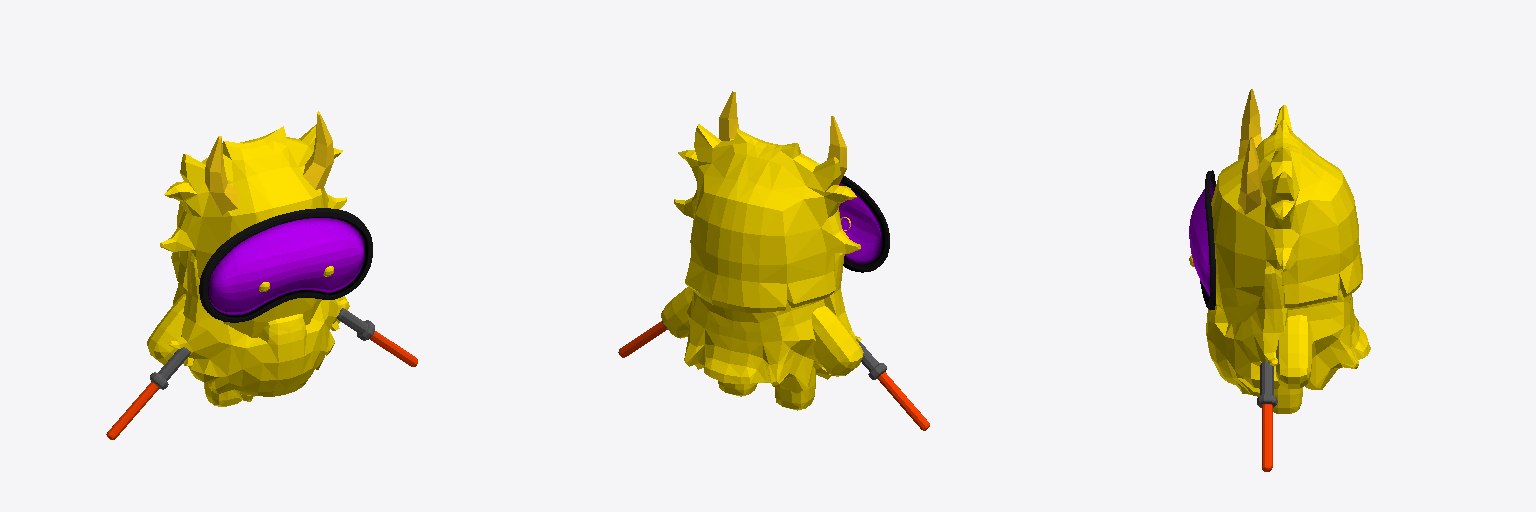
3 renders of one model, left to right at view 1: azimuth 30°, elevation 25°; view 2: azimuth 150°, elevation 25°; view 3: azimuth 270°, elevation 25°, orthographic.
Visible parts, largest first — view 1: rm_dff.001; view 2: rm_dff.001; view 3: rm_dff.001.
Boxes of the visible parts, box(x1,y1,x2,y2) form: rm_dff.001: box(106, 111, 417, 439); rm_dff.001: box(618, 91, 929, 430); rm_dff.001: box(1189, 89, 1370, 471).
Size of the model in its own units: 7.24 by 6.36 by 3.68.
2 materials, 1 textured.